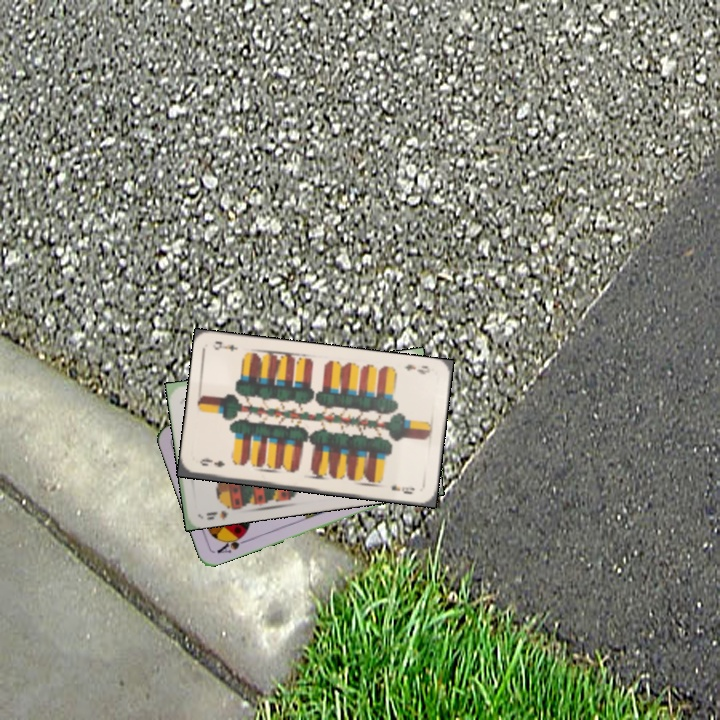E9: (400, 360, 433, 377), (196, 455, 227, 470)
S9: (202, 500, 239, 522)
SA: (213, 529, 251, 556)
